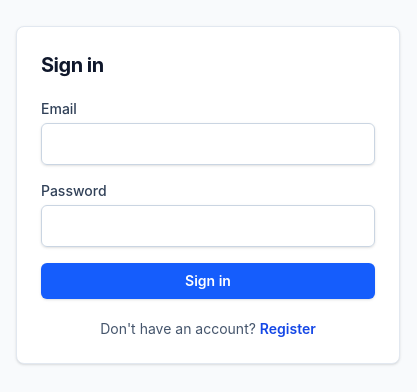
Scenario: AuthGate › toggles to register mode when the switch button is clicked
Click the button "Register" at (288, 329), box x1=260 y1=319 x2=316 y2=339
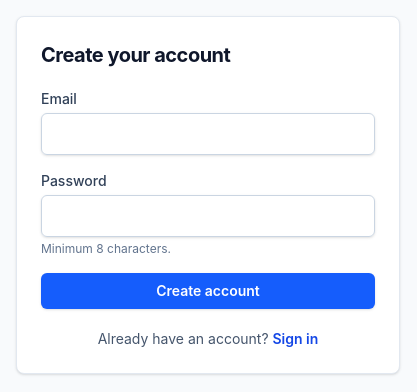
Expected: the heading "Create your account" is shown, x1=41 y1=43 x2=230 y2=67
Expected: the button "Create account" is shown, x1=41 y1=273 x2=375 y2=309
